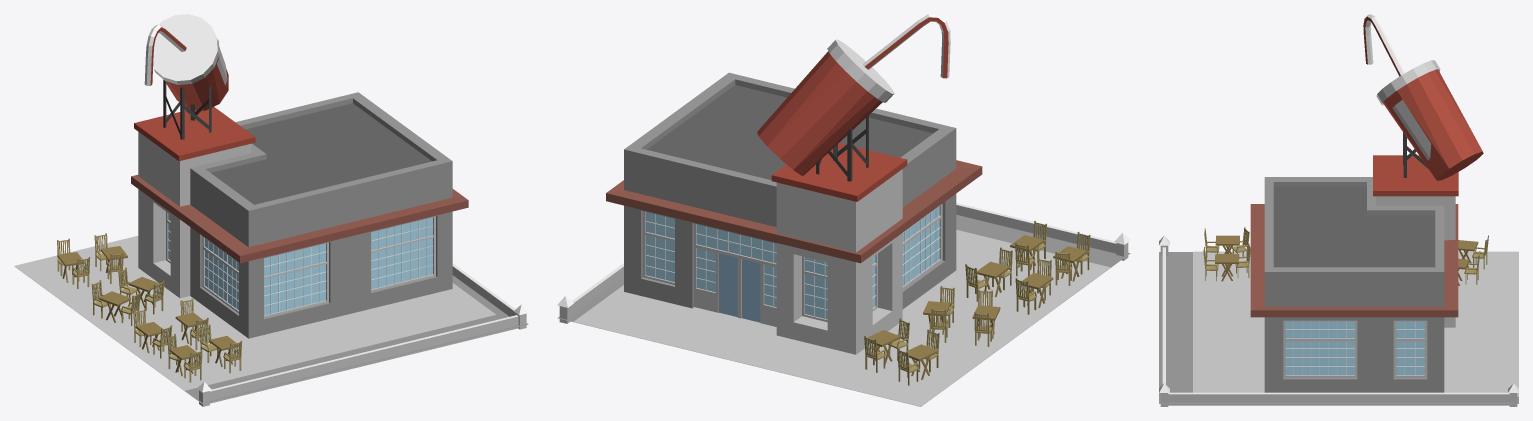
File: office3.glb
The picture shows the model from 3 angles, left to right: view 1: azimuth 30°, elevation 25°; view 2: azimuth 150°, elevation 25°; view 3: azimuth 270°, elevation 25°; orthographic projection. The views are drawn at different scales.
Visible parts, largest first — view 1: city_private_houses.901; view 2: city_private_houses.901; view 3: city_private_houses.901.
Part boxes in pixels (x1=…): city_private_houses.901: x1=14, y1=14, x2=528, y2=406; city_private_houses.901: x1=557, y1=14, x2=1130, y2=406; city_private_houses.901: x1=1159, y1=14, x2=1518, y2=406.
Bounding box in the file's own units: 16.01 × 13.31 × 16.01.
Materials: 1 (1 with a texture image).
